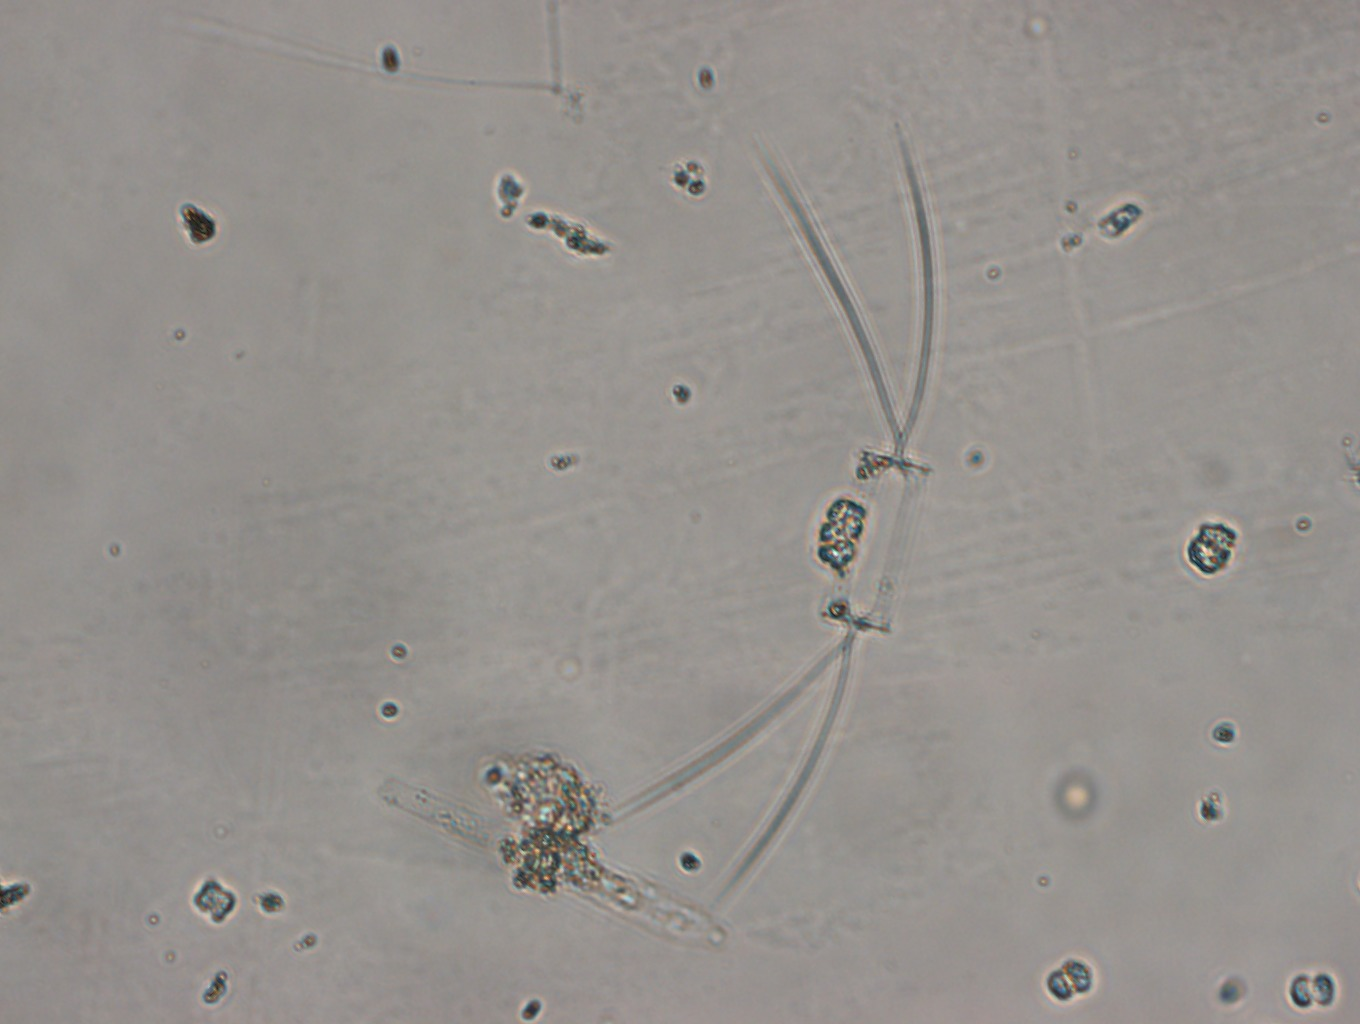chaetoceros: (562, 111, 946, 905)
